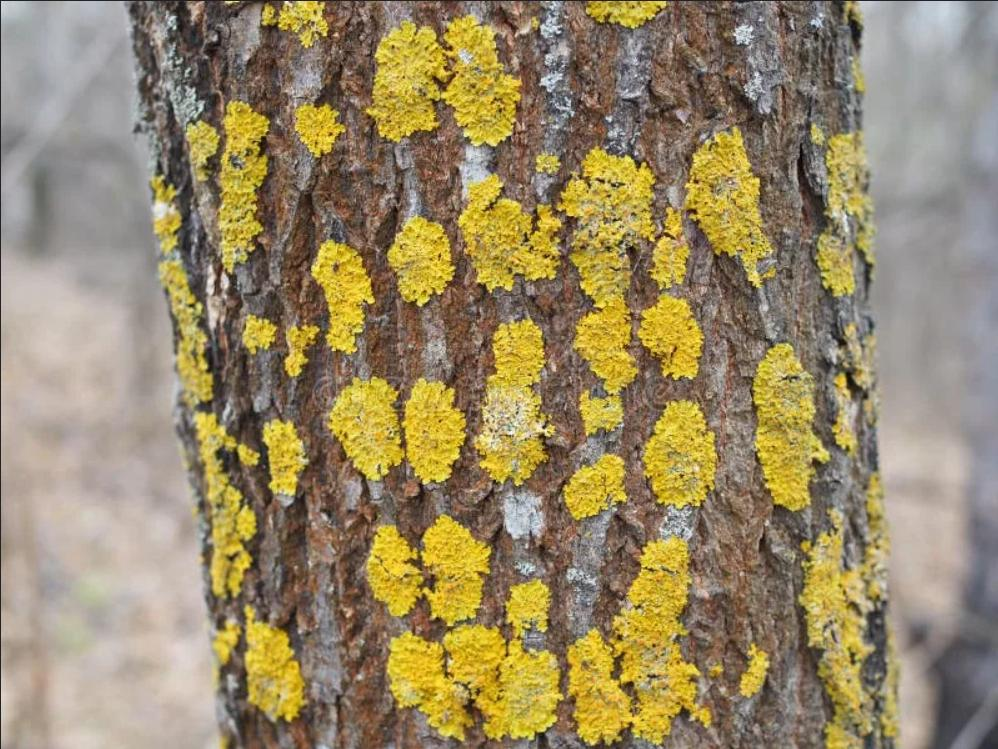lichen: (614, 537, 707, 741), (799, 511, 872, 748), (559, 147, 653, 307), (686, 128, 773, 286), (474, 318, 551, 485), (753, 343, 828, 510), (458, 175, 560, 291), (195, 413, 256, 596), (443, 16, 519, 145), (815, 131, 874, 296), (366, 21, 447, 140), (387, 632, 470, 738), (220, 101, 268, 271), (159, 253, 212, 405), (644, 400, 716, 507), (330, 377, 403, 479), (422, 515, 489, 625), (486, 639, 561, 737), (568, 629, 630, 744), (311, 240, 374, 352), (245, 606, 305, 720), (403, 379, 464, 483), (574, 298, 637, 393), (388, 217, 452, 305), (444, 624, 505, 714), (639, 294, 702, 378), (367, 526, 422, 615), (565, 454, 626, 518), (264, 420, 307, 504), (493, 318, 544, 385), (651, 207, 689, 288), (295, 104, 344, 157), (506, 579, 549, 637), (817, 227, 852, 296), (278, 0, 327, 47), (586, 0, 667, 28), (152, 175, 180, 253), (187, 121, 218, 180), (580, 392, 623, 434), (284, 325, 318, 377), (740, 643, 768, 696), (243, 314, 276, 353), (213, 620, 238, 665)
